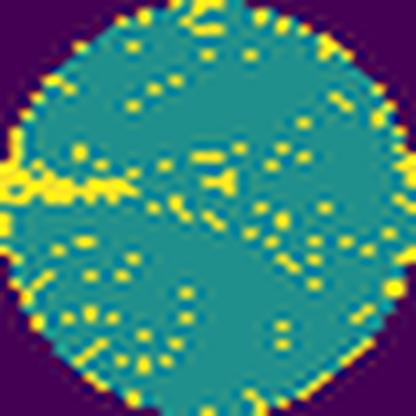Loc: (0, 127, 141, 206)
